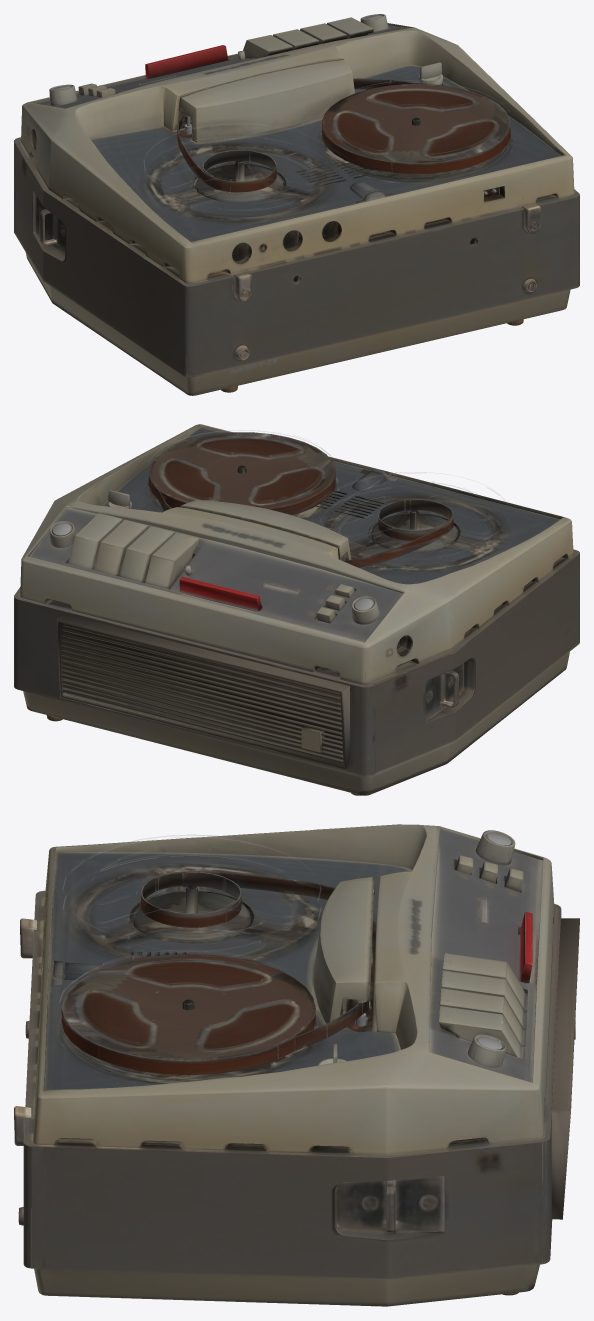
Rendered from recorder.glb.
3 views of the same model, one above another, from view 1: azimuth 30°, elevation 25°; view 2: azimuth 150°, elevation 25°; view 3: azimuth 270°, elevation 25° (orthographic). The views are drawn at different scales.
Parts seen in each view (by area): view 1: MIM_210_Baked; view 2: MIM_210_Baked; view 3: MIM_210_Baked.
Boxes of the visible parts, x1=… form: MIM_210_Baked: x1=14, y1=14, x2=579, y2=395; MIM_210_Baked: x1=14, y1=424, x2=579, y2=795; MIM_210_Baked: x1=14, y1=824, x2=579, y2=1306.
Bounding box in the file's own units: 36.93 × 16.62 × 32.04.
Materials: 1 (1 with a texture image).
